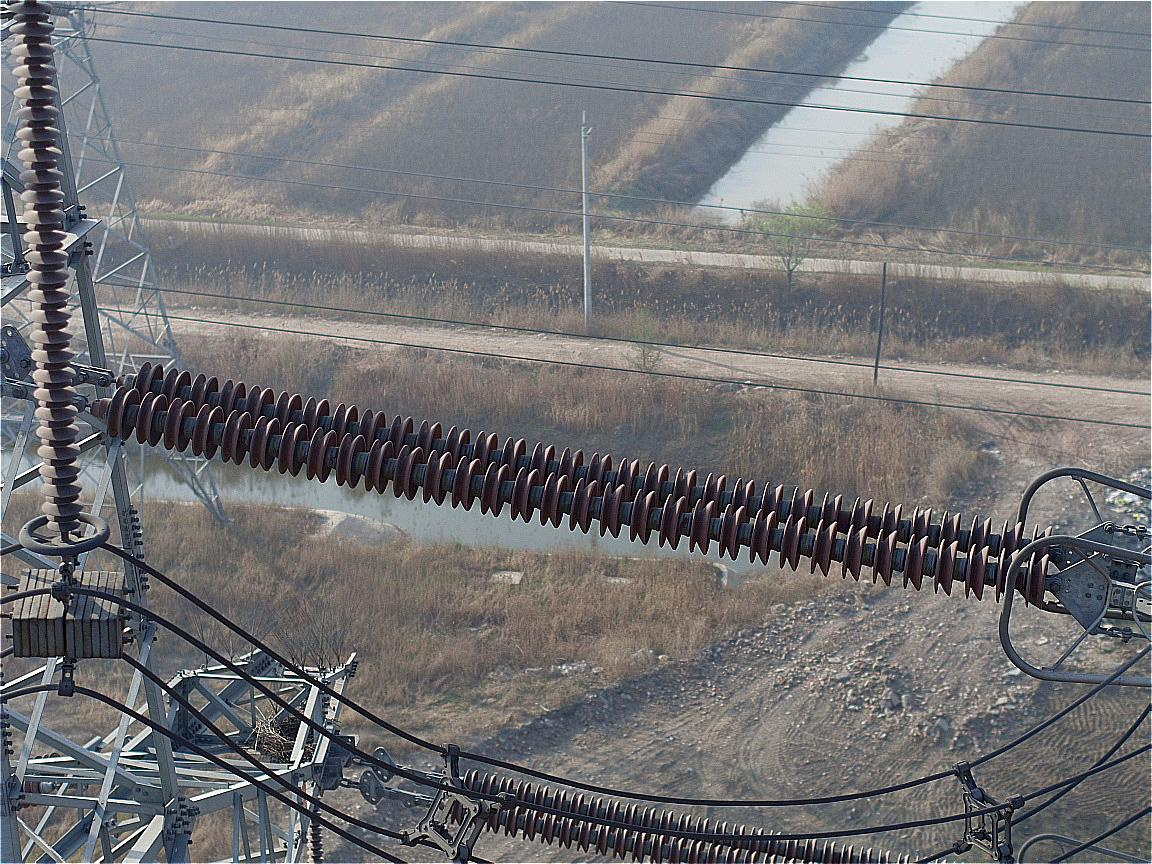insultor2: (97, 346, 1074, 623)
